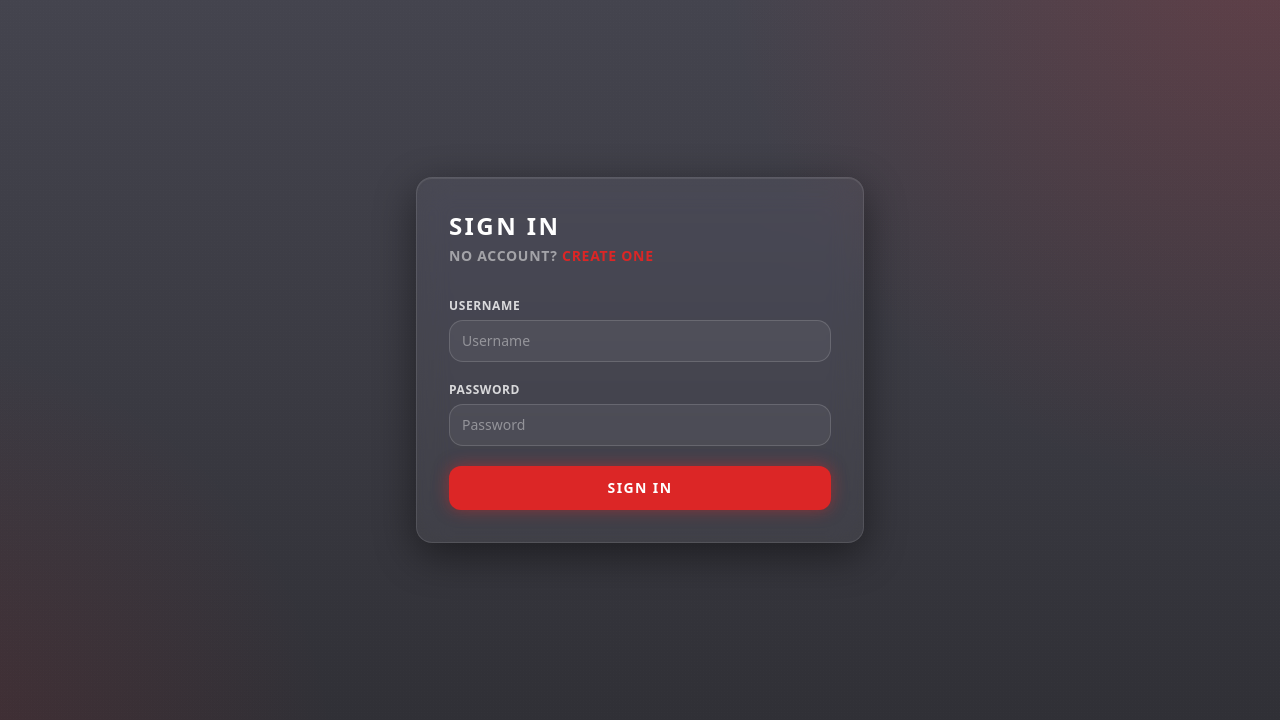
Scenario: Login page › failed login › clears a previous error when a new submission starts
The width and height of the screenshot is (1280, 720).
In the field labelled "Username": {"x": 640, "y": 341} 449,320 -> 831,362, type "ash"
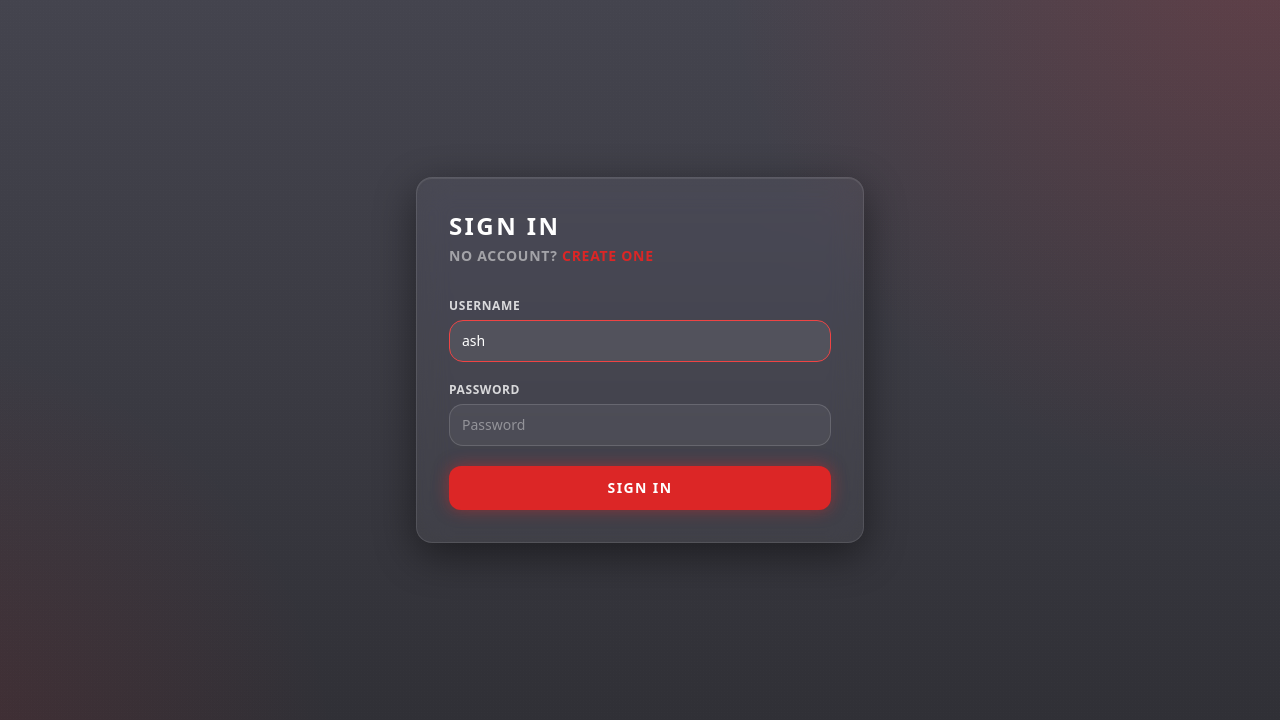
In the password field labelled "Password": {"x": 640, "y": 425} 449,404 -> 831,446, type "wrongpass"
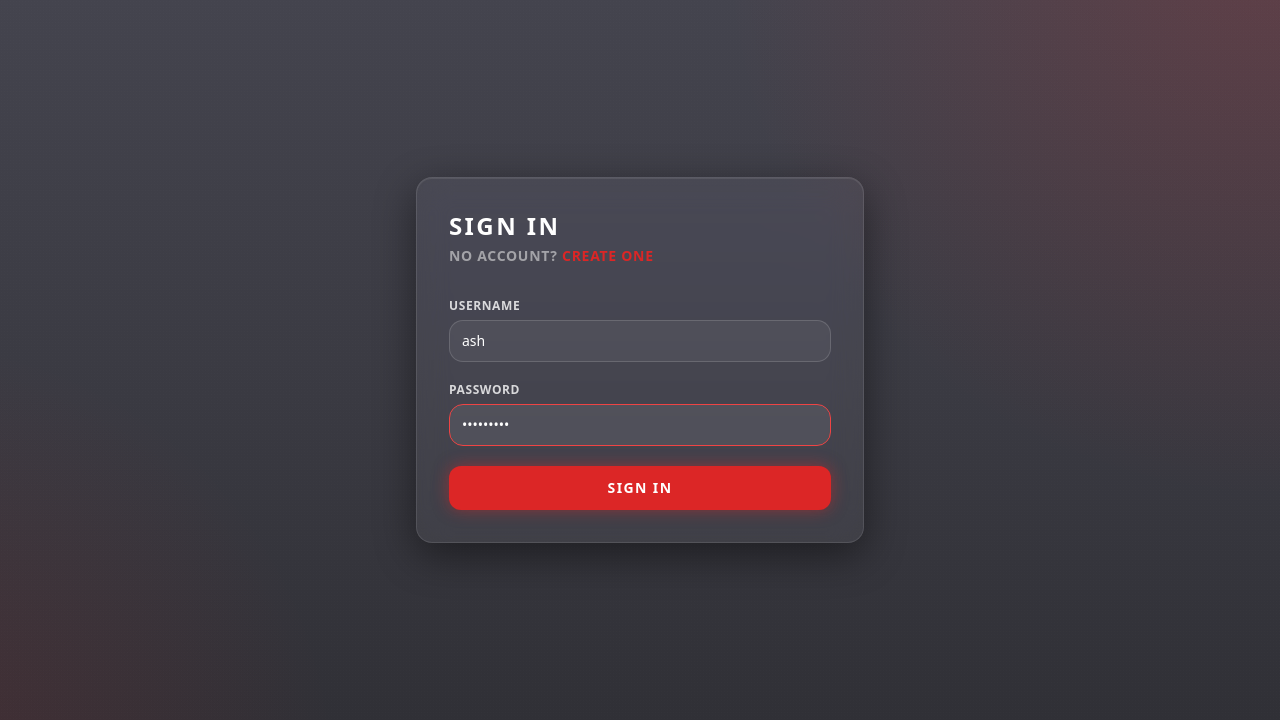
Click the button "Sign In": {"x": 640, "y": 488} 449,466 -> 831,510
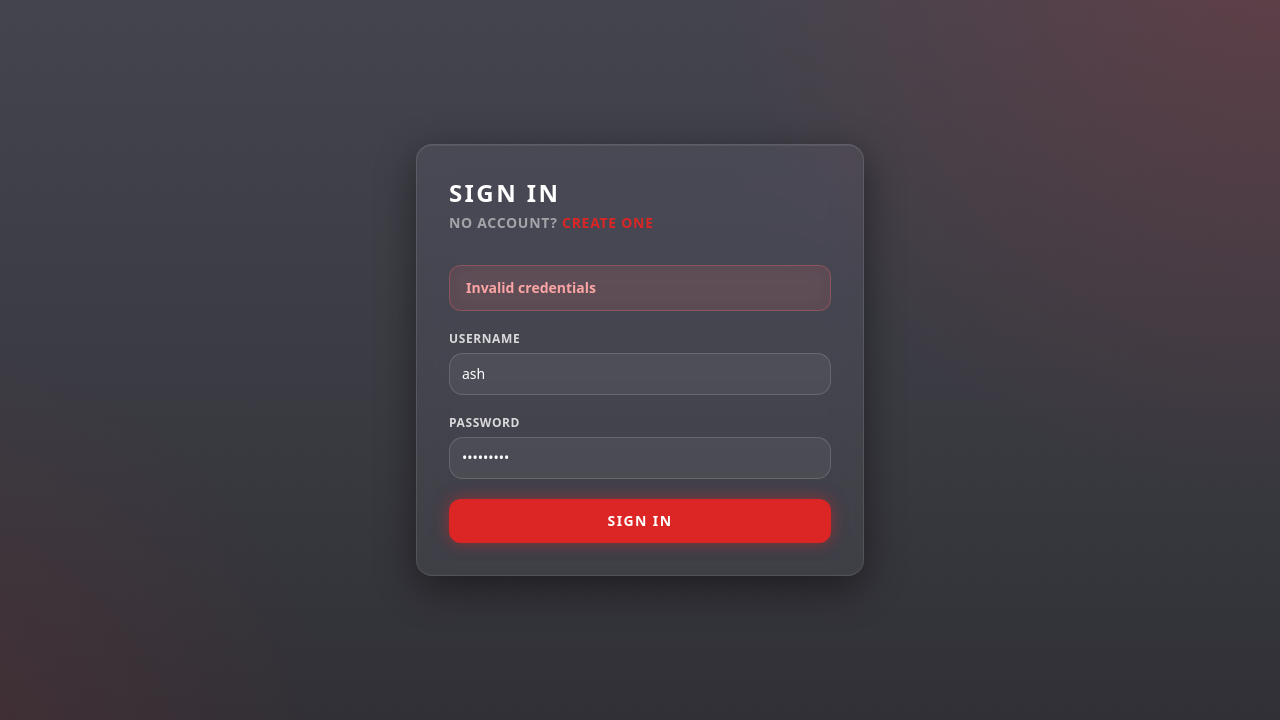
Now the text "Invalid credentials" is shown, box 449,265 -> 831,311
Click the button: {"x": 640, "y": 521} 449,499 -> 831,543
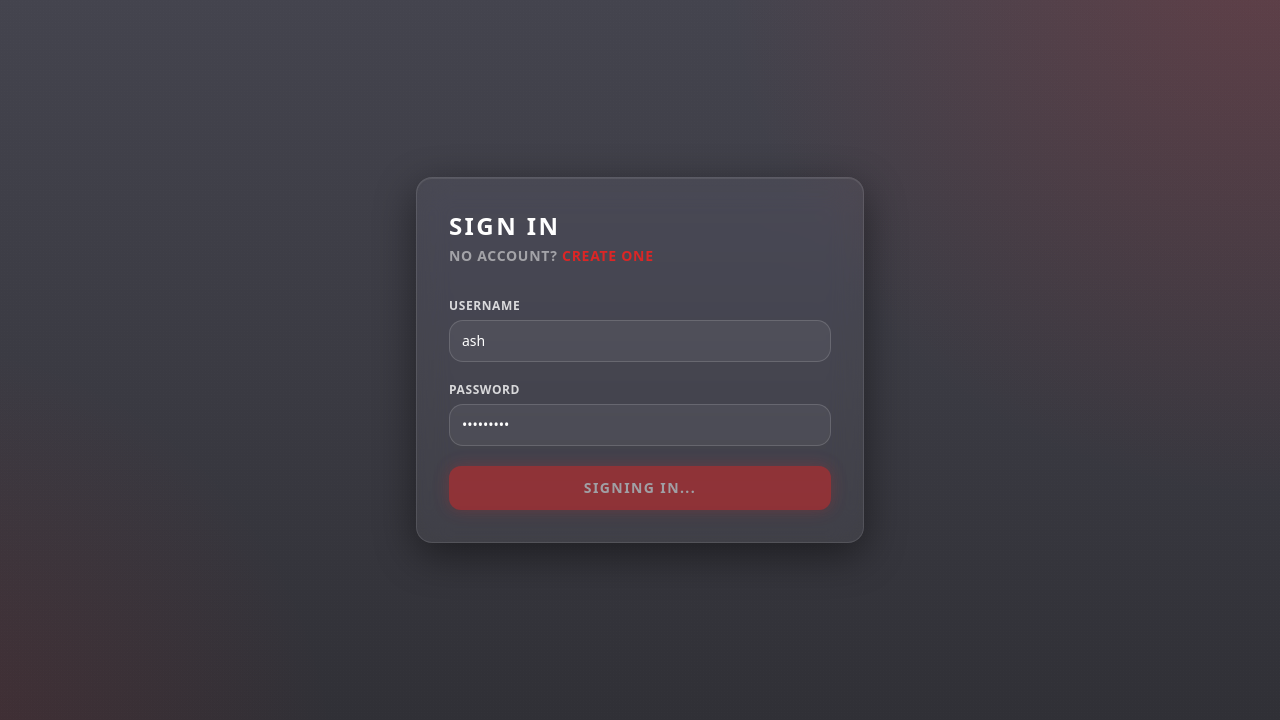
Now the text "Invalid credentials" is gone
